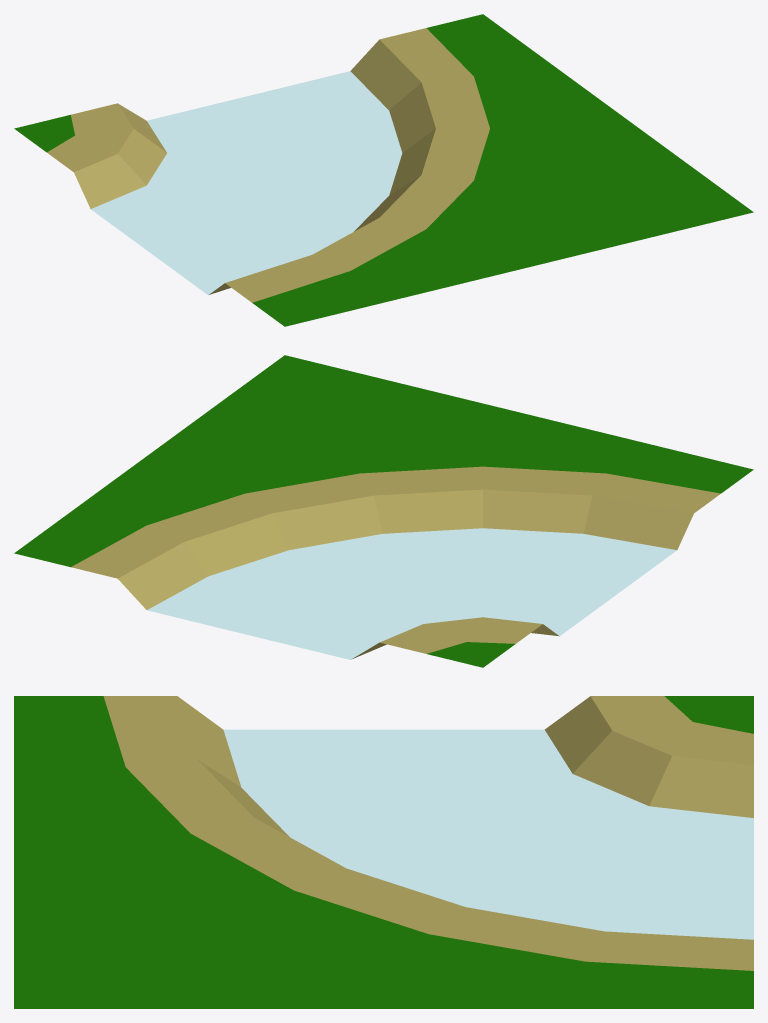
File: ground_riverBend.fbx
3 renders of one model, top to bottom at view 1: azimuth 30°, elevation 25°; view 2: azimuth 150°, elevation 25°; view 3: azimuth 270°, elevation 25°, orthographic. The views are drawn at different scales.
Parts seen in each view (by area): view 1: ground_riverBend; view 2: ground_riverBend; view 3: ground_riverBend.
Boxes of the visible parts, box(x1,y1,x2,y2) form: ground_riverBend: box(14, 14, 753, 326); ground_riverBend: box(14, 355, 753, 667); ground_riverBend: box(14, 696, 753, 1008).
Size of the model in its own units: 100 by 5 by 100.
